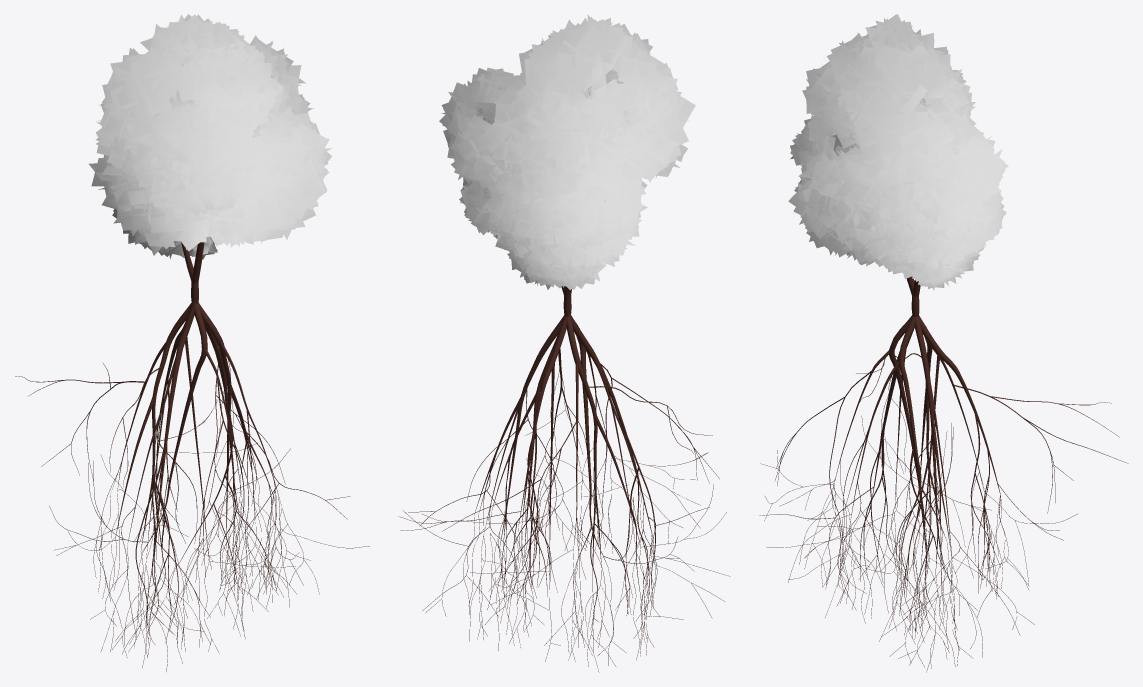
Rendered from Mangrove.fbx.
3 views of the same model, side by side, from view 1: azimuth 30°, elevation 25°; view 2: azimuth 150°, elevation 25°; view 3: azimuth 270°, elevation 25° (orthographic). The views are drawn at different scales.
Parts seen in each view (by area): view 1: Leaves 1, a trunk; view 2: Leaves 1, a trunk; view 3: Leaves 1, a trunk.
Part boxes in pixels (x1,y1,x2,y2): Leaves 1: (89,14,331,259); a trunk: (15,242,369,671); Leaves 1: (439,14,695,290); a trunk: (398,93,730,672); Leaves 1: (788,14,1008,290); a trunk: (759,276,1128,672).
Bounding box in the file's own units: 1080 × 2210 × 1169.
